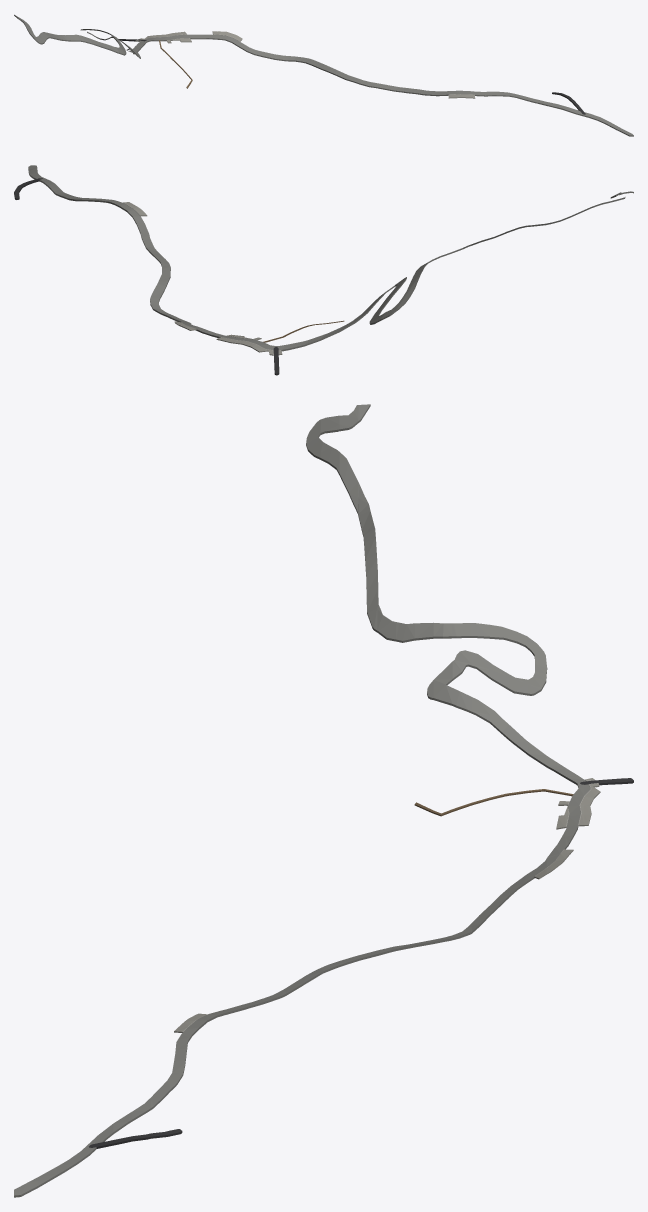
3 views of the same model, one above another, from view 1: azimuth 30°, elevation 25°; view 2: azimuth 150°, elevation 25°; view 3: azimuth 270°, elevation 25° (orthographic). The views are drawn at different scales.
Size of the model in its own units: 587 by 191 by 329.
